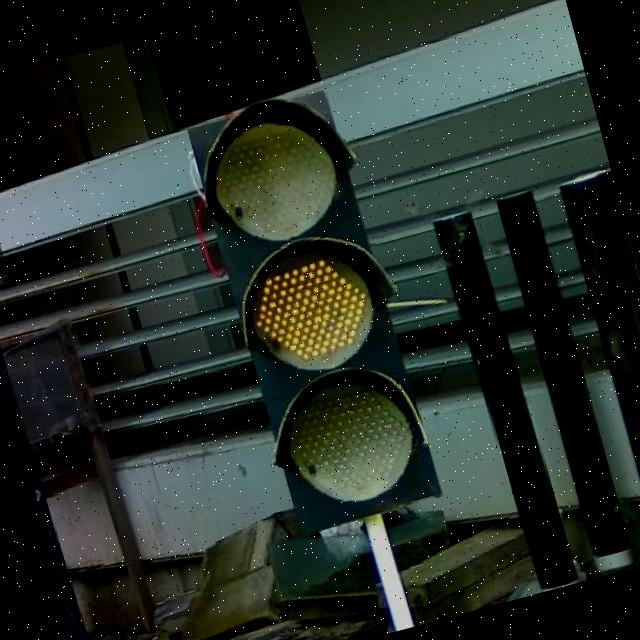yellow_light: (184, 84, 449, 540)
